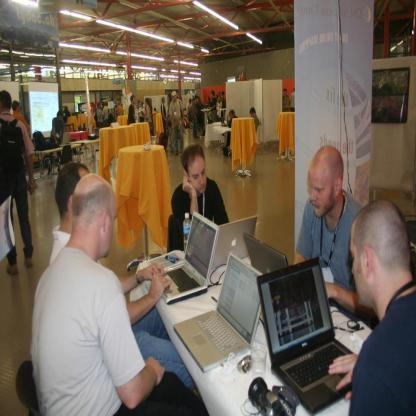board: (257, 258, 353, 410), (174, 253, 265, 373), (162, 212, 218, 303), (212, 216, 258, 267), (244, 234, 288, 274), (184, 210, 191, 249)
